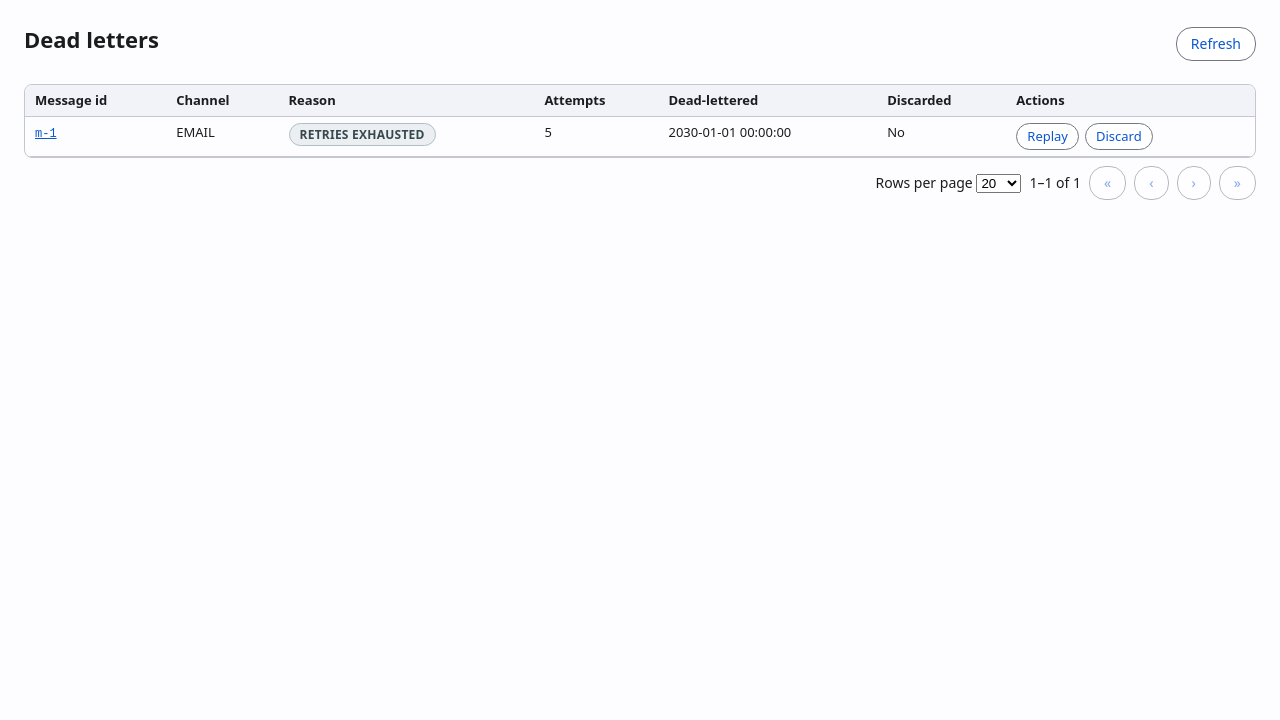
Scenario: dead letters › discard is a danger confirmation; cancelling sends nothing; confirming POSTs discard
Click the button "Discard".
click(1119, 136)  # box x1=1085 y1=123 x2=1153 y2=150
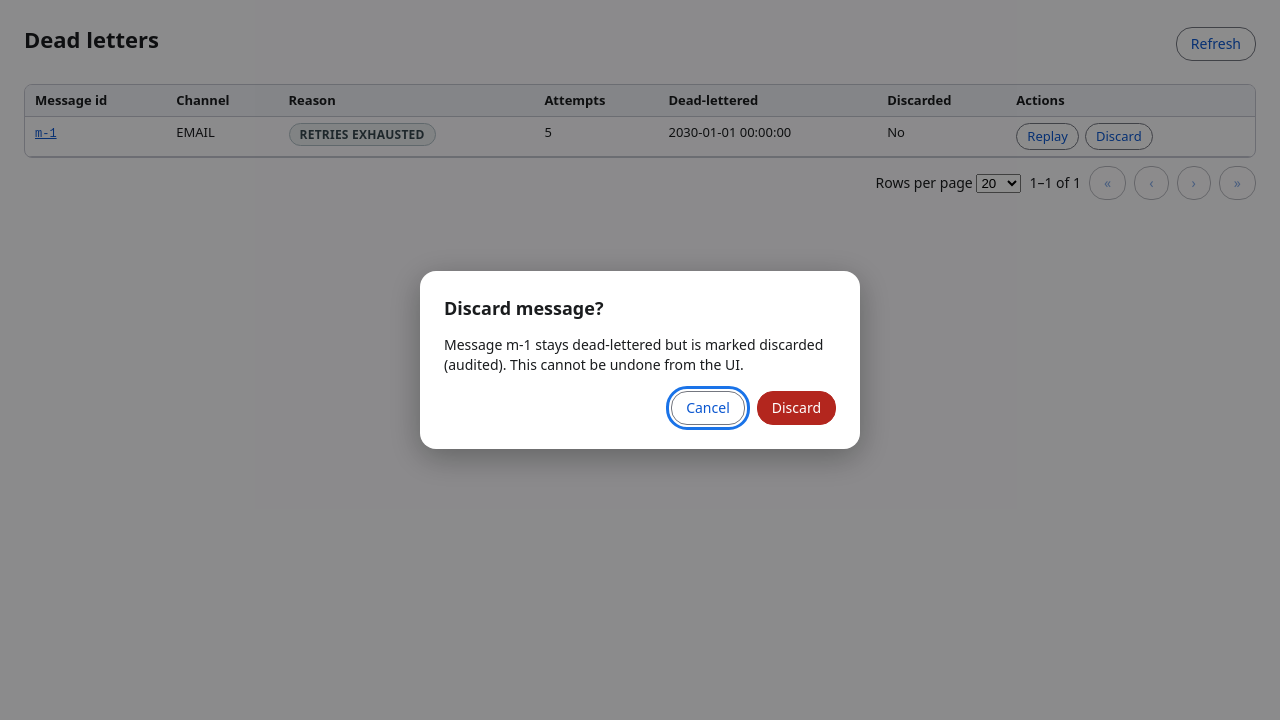
Click the button "Cancel".
click(708, 408)  # box x1=671 y1=391 x2=745 y2=426
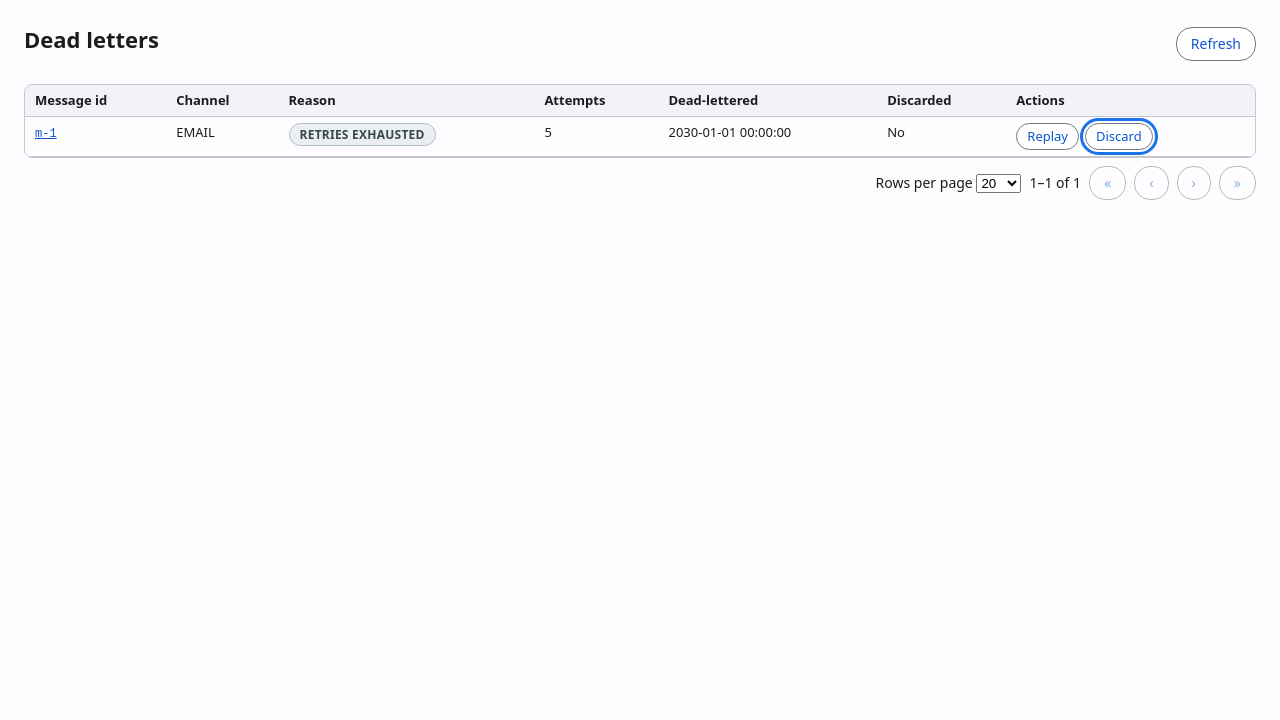
Click the button "Discard".
click(1119, 136)  # box x1=1085 y1=123 x2=1153 y2=150
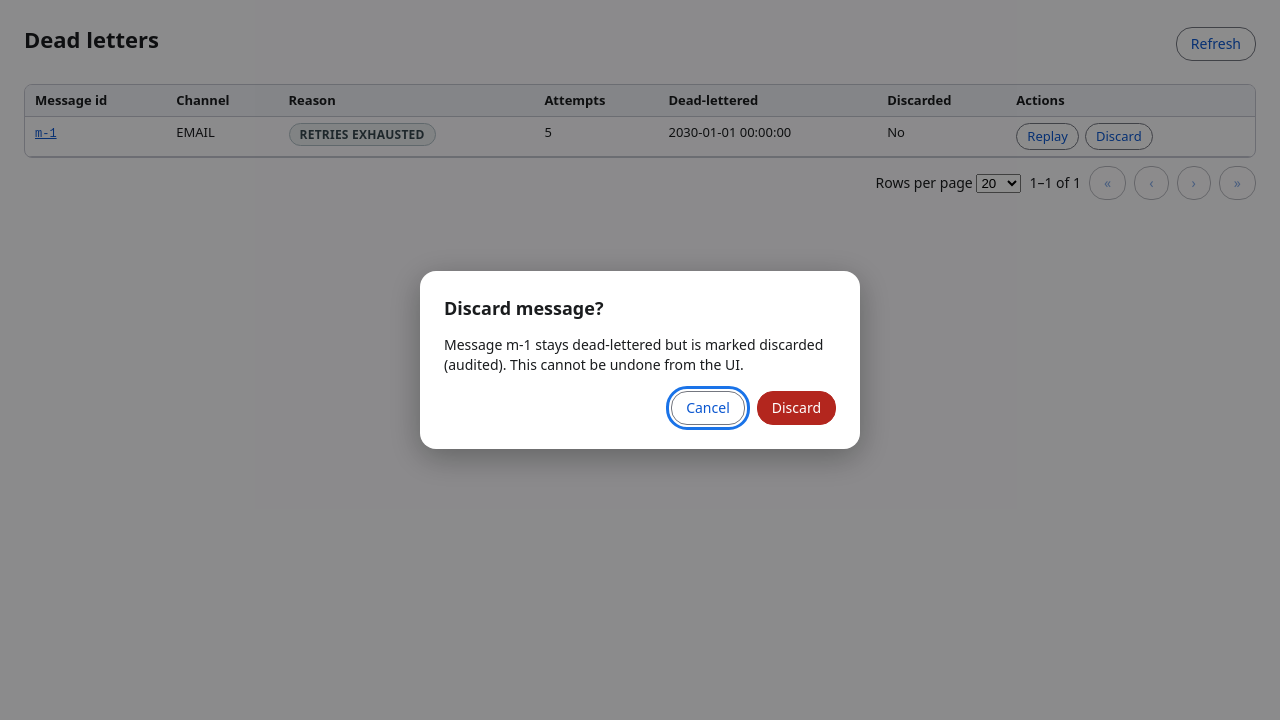
expect the dialog "Discard message?" shows "cannot be undone": met, box x1=444 y1=335 x2=823 y2=374
Click the button "Discard".
click(796, 408)  # box x1=757 y1=391 x2=836 y2=426
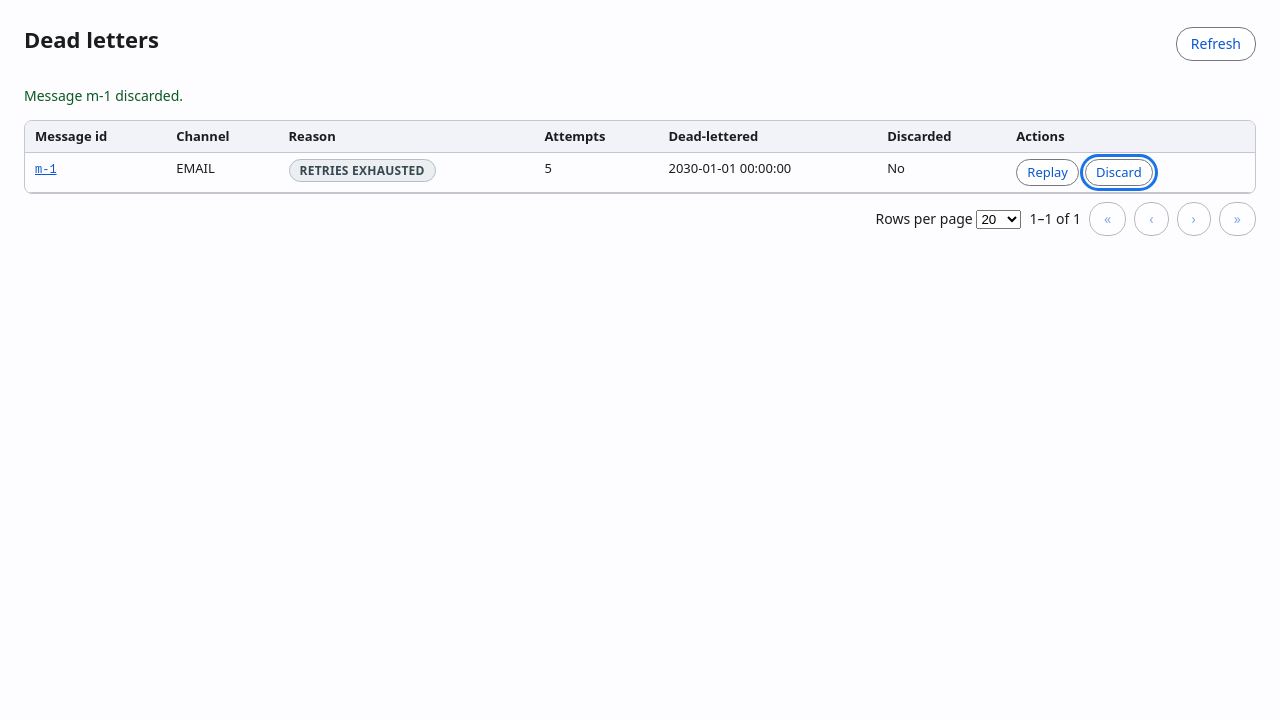
expect the text "Message m-1 discarded." is shown: met, box x1=24 y1=86 x2=183 y2=105
